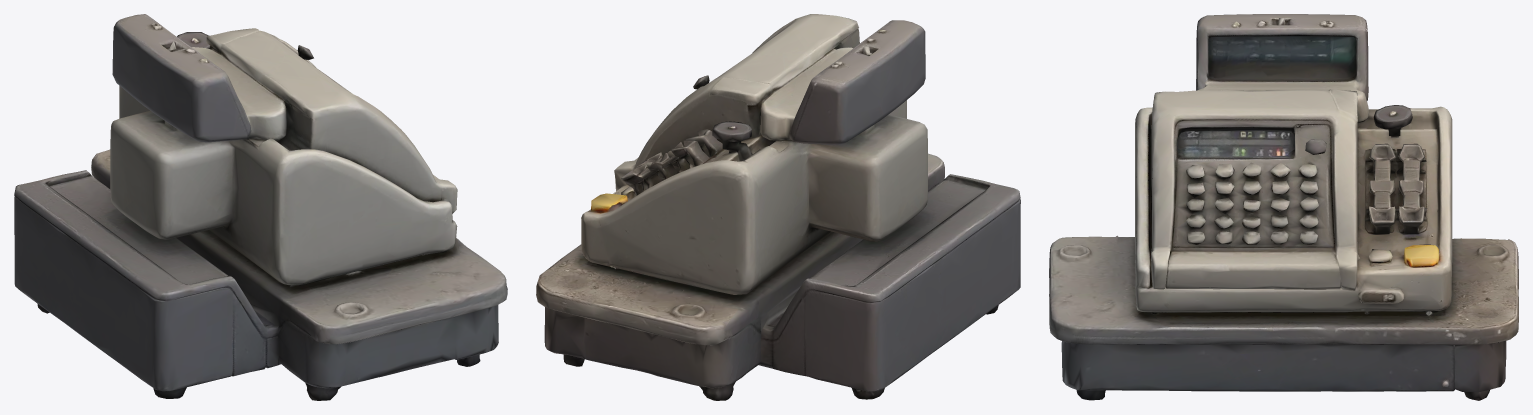
The model's file is counter.glb.
3 renders of one model, left to right at view 1: azimuth 30°, elevation 25°; view 2: azimuth 150°, elevation 25°; view 3: azimuth 270°, elevation 25°, orthographic. The views are drawn at different scales.
Visible parts, largest first — view 1: tripo_node_f22db8ff-5eeb-41d9-b2d7-3418c5b1eaee; view 2: tripo_node_f22db8ff-5eeb-41d9-b2d7-3418c5b1eaee; view 3: tripo_node_f22db8ff-5eeb-41d9-b2d7-3418c5b1eaee.
Part boxes in pixels (x1,y1,x2,y2): tripo_node_f22db8ff-5eeb-41d9-b2d7-3418c5b1eaee: (14, 14, 507, 400); tripo_node_f22db8ff-5eeb-41d9-b2d7-3418c5b1eaee: (536, 14, 1020, 400); tripo_node_f22db8ff-5eeb-41d9-b2d7-3418c5b1eaee: (1049, 14, 1518, 400).
Size of the model in its own units: 0.449 by 0.4 by 0.5943.
1 material, 1 textured.
